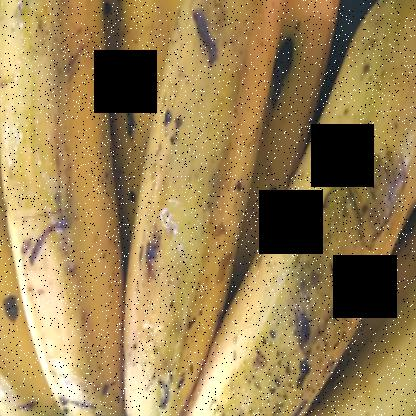ripe: (209, 6, 411, 415), (118, 0, 287, 410), (0, 0, 154, 413)
